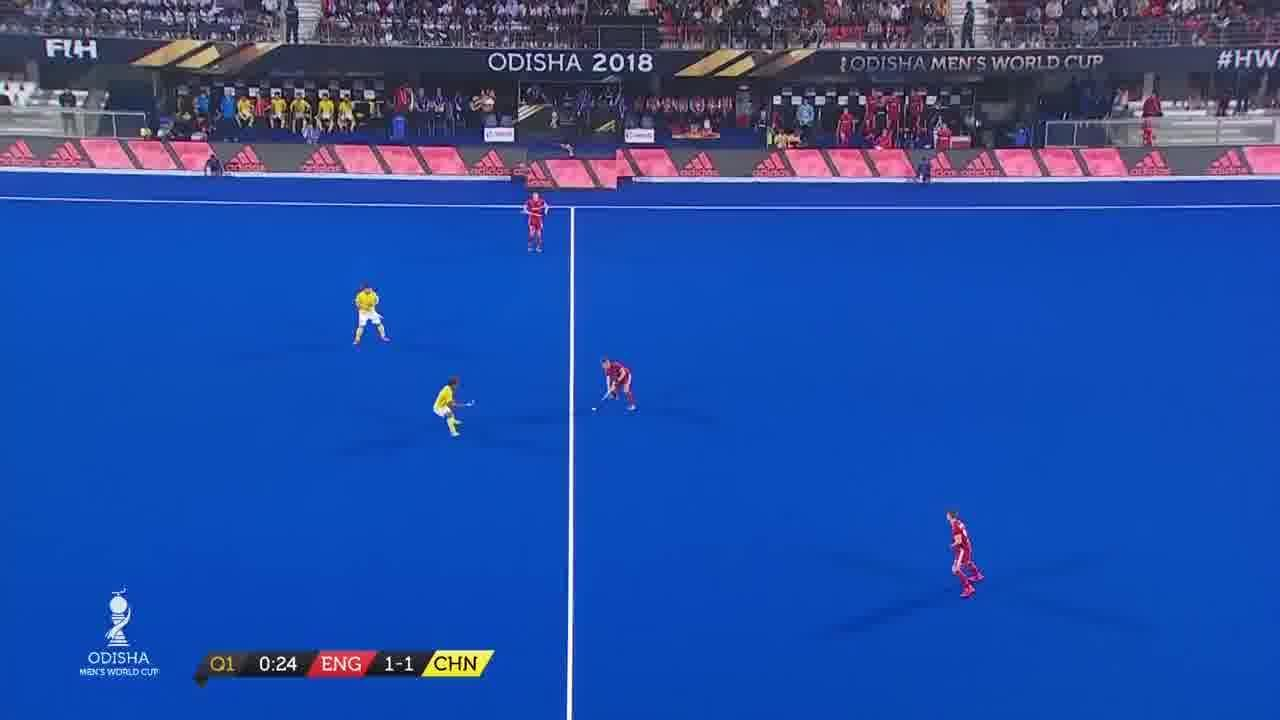ball: (592, 404, 598, 415)
